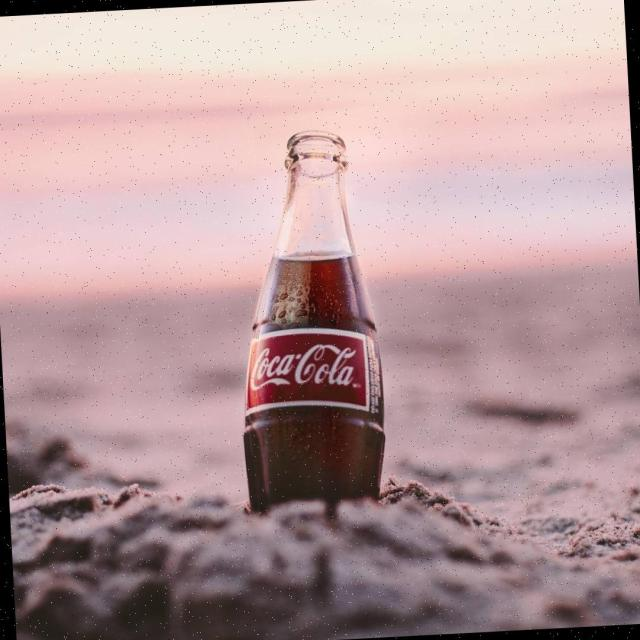coca-cola: (222, 122, 394, 516)
